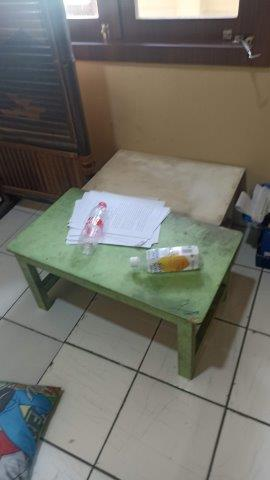botolplastik: (130, 246, 202, 278), (79, 201, 108, 253)
kertas: (66, 190, 170, 250)
